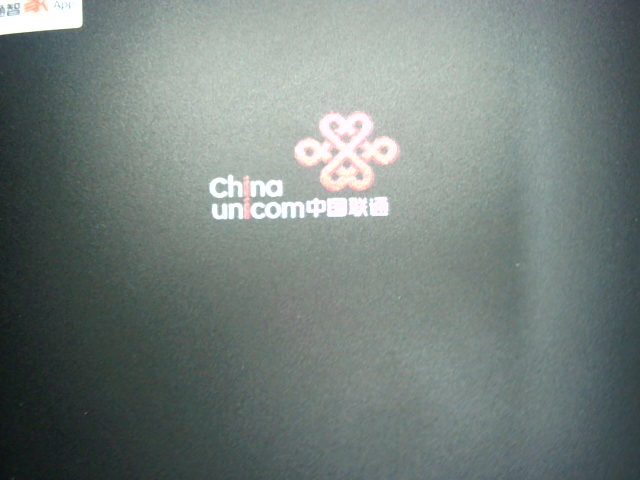AC_ChinaUnicom: (202, 104, 400, 225)
